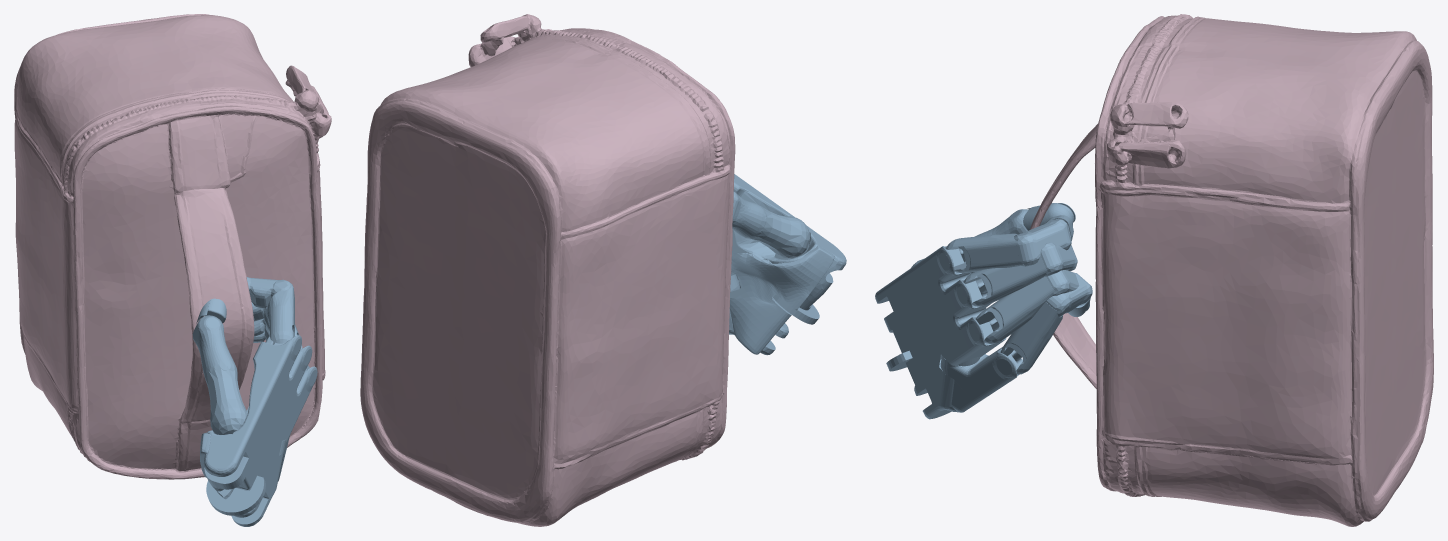
3 renders of one model, left to right at view 1: azimuth 30°, elevation 25°; view 2: azimuth 150°, elevation 25°; view 3: azimuth 270°, elevation 25°, orthographic. The views are drawn at different scales.
Parts seen in each view (by area): view 1: obj_mesh_grasp_40.obj, world; view 2: obj_mesh_grasp_40.obj, world; view 3: obj_mesh_grasp_40.obj, world.
Part boxes in pixels (box(x1,y1,x2,y2)): obj_mesh_grasp_40.obj: box(14, 14, 331, 479); world: box(192, 277, 317, 526); obj_mesh_grasp_40.obj: box(360, 14, 735, 526); world: box(729, 174, 846, 355); obj_mesh_grasp_40.obj: box(1030, 14, 1433, 526); world: box(875, 203, 1092, 419).
Bounding box in the file's own units: 0.2049 × 0.2706 × 0.3178.
